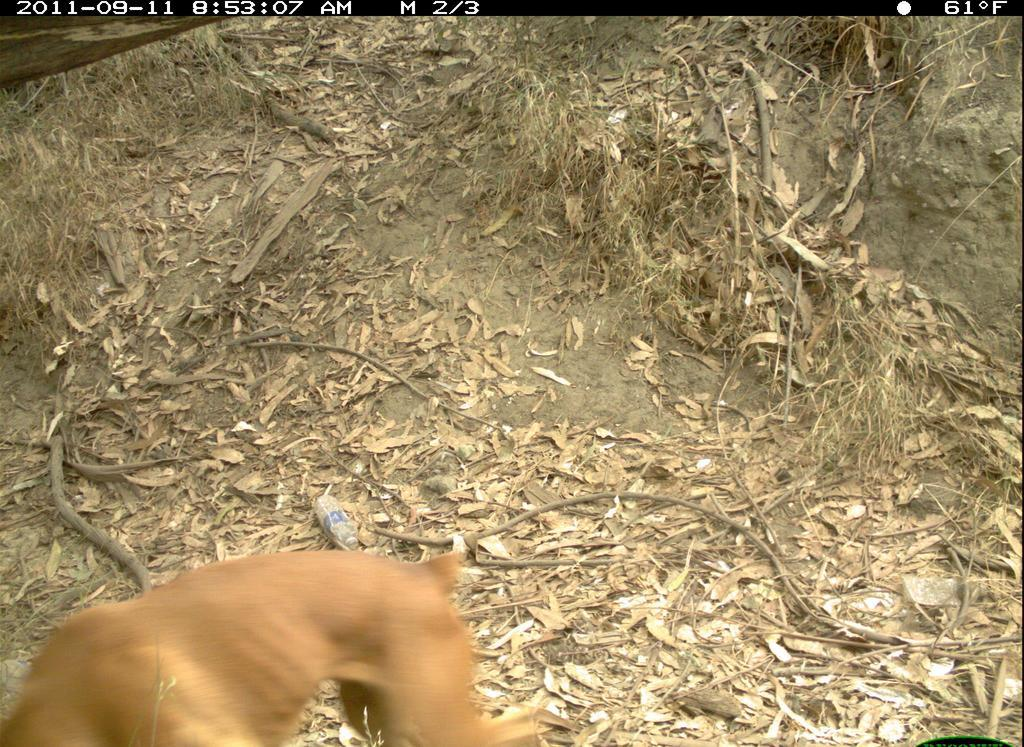dog: (4, 550, 547, 747)
